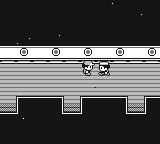main: (82, 61, 94, 75)
no-caminable: (1, 97, 160, 143), (1, 47, 159, 63)
npc: (98, 62, 110, 75)
puerta: (126, 96, 145, 114), (63, 96, 81, 112), (0, 97, 18, 113)
